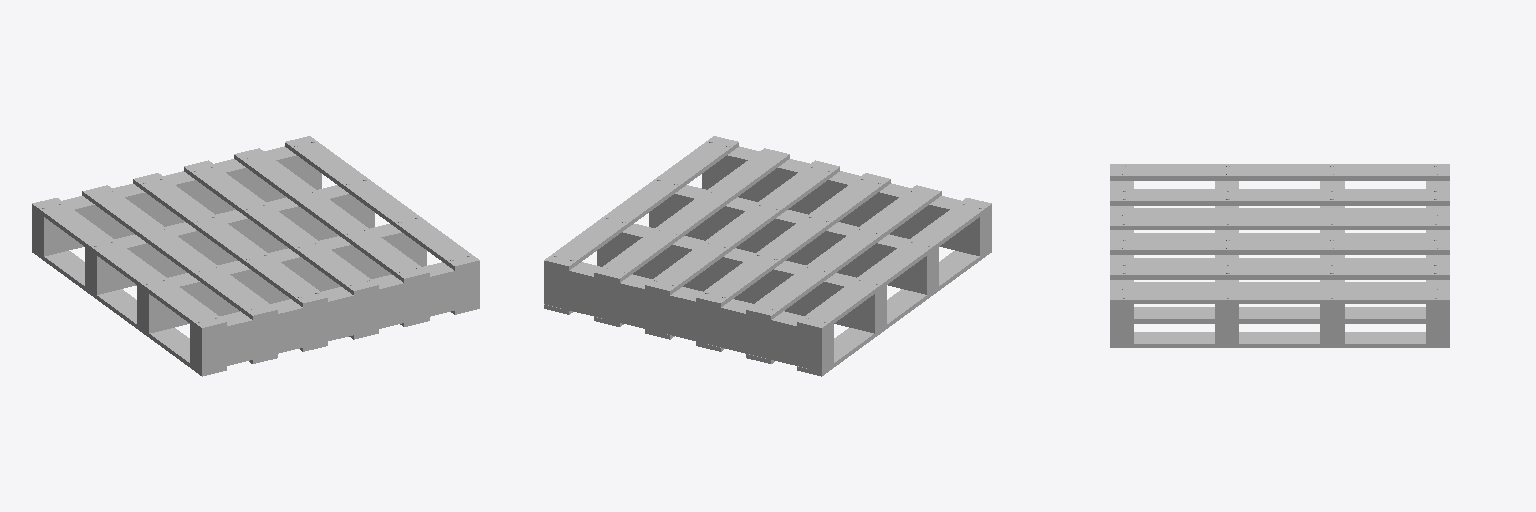
File: pallet.obj
3 views of the same model, side by side, from view 1: azimuth 30°, elevation 25°; view 2: azimuth 150°, elevation 25°; view 3: azimuth 270°, elevation 25° (orthographic).
Parts seen in each view (by area): view 1: Pallet_beams, Pallet_panels, Pallet_panels_2; view 2: Pallet_beams, Pallet_panels, Pallet_panels_2; view 3: Pallet_panels, Pallet_panels_2, Pallet_beams.
Part boxes in pixels (x1,y1,x2,y2): Pallet_beams: (32, 146, 479, 371); Pallet_panels: (32, 136, 479, 332); Pallet_panels_2: (32, 248, 479, 376); Pallet_beams: (544, 146, 991, 371); Pallet_panels: (544, 136, 991, 332); Pallet_panels_2: (544, 248, 991, 376); Pallet_panels: (1110, 164, 1449, 303); Pallet_panels_2: (1110, 208, 1449, 347); Pallet_beams: (1110, 181, 1449, 343).
Size of the model in its own units: 6.6 by 1.11 by 7.